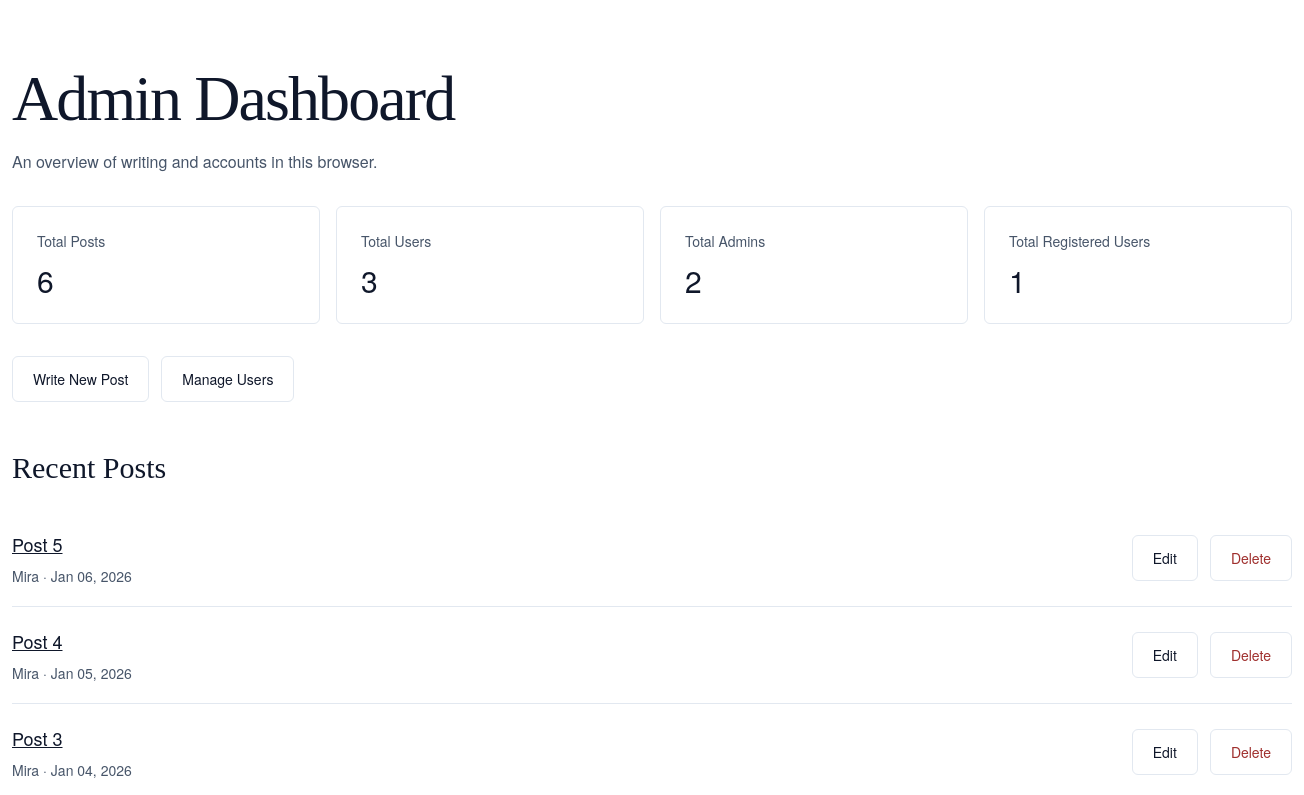
Scenario: activates Manage Users
Click the link "Manage Users": (228, 379) x1=161 y1=356 x2=294 y2=402
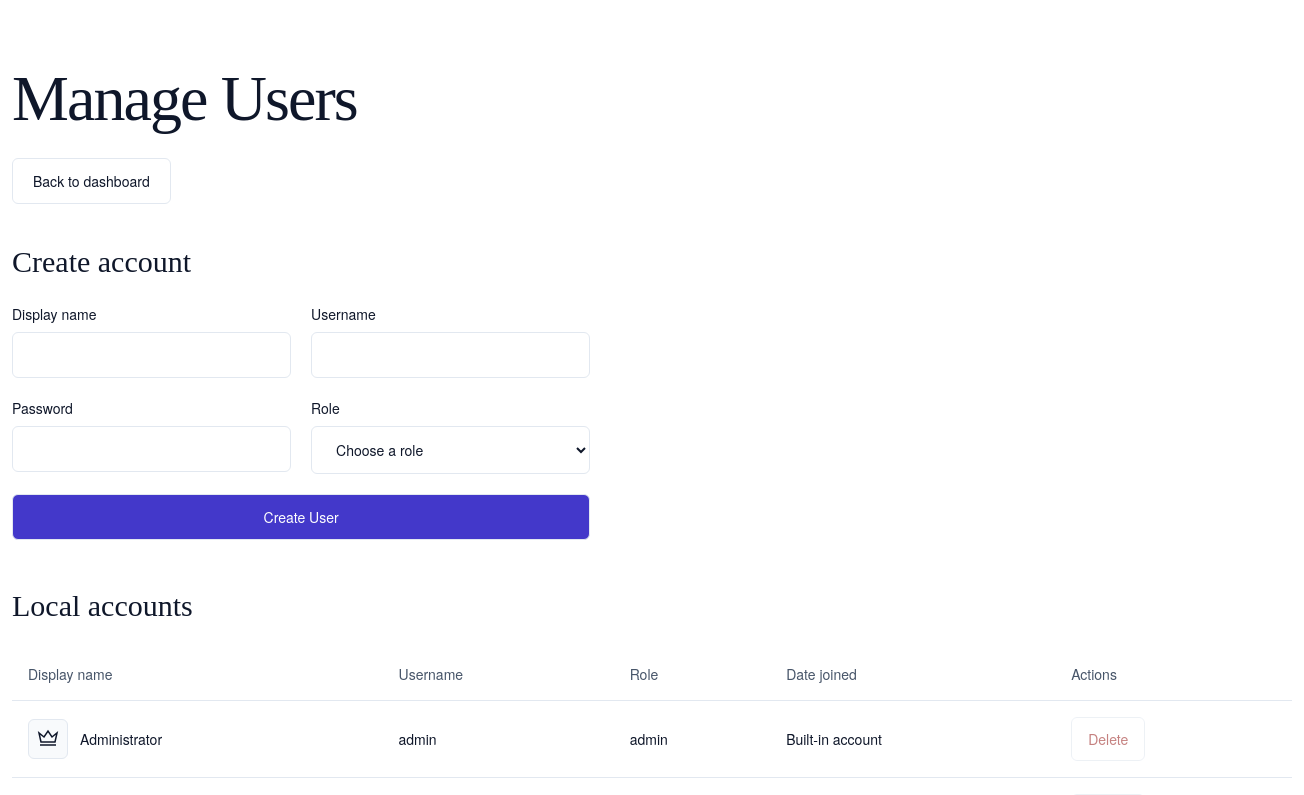
Expected: the heading "Manage Users" is shown, x1=12 y1=63 x2=357 y2=134
